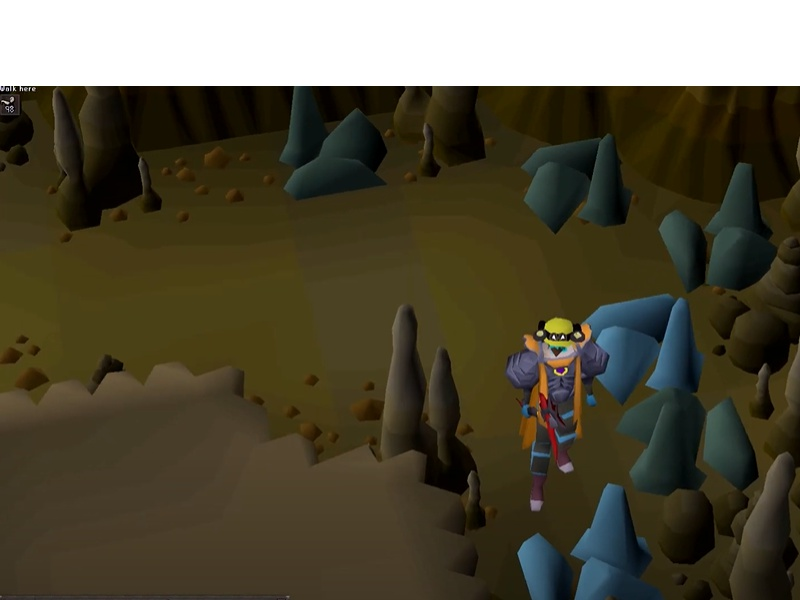adamant: (654, 159, 779, 297), (612, 385, 762, 497), (277, 87, 397, 206), (518, 132, 636, 238)
rune: (513, 479, 657, 600), (573, 291, 707, 403)
